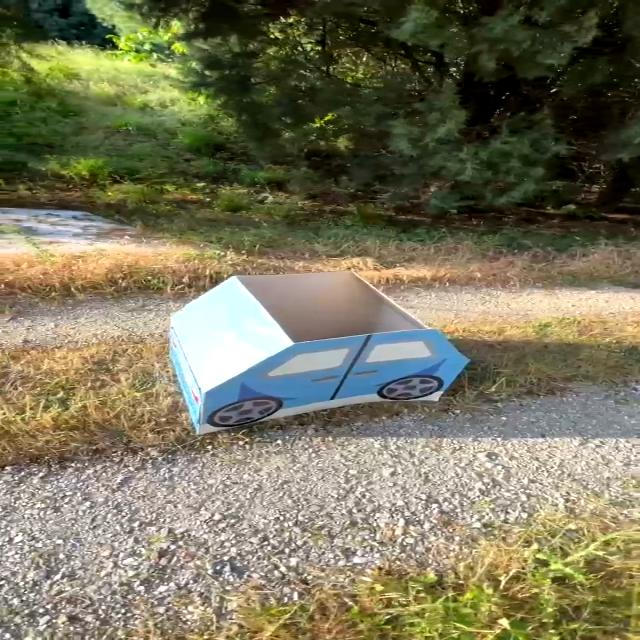blue_car: (114, 267, 503, 443)
